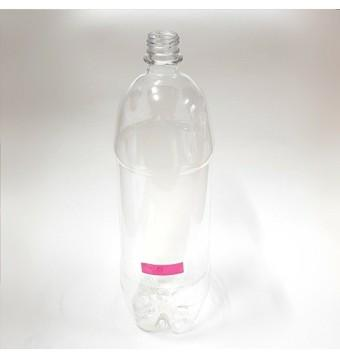bottle: (112, 30, 213, 333)
